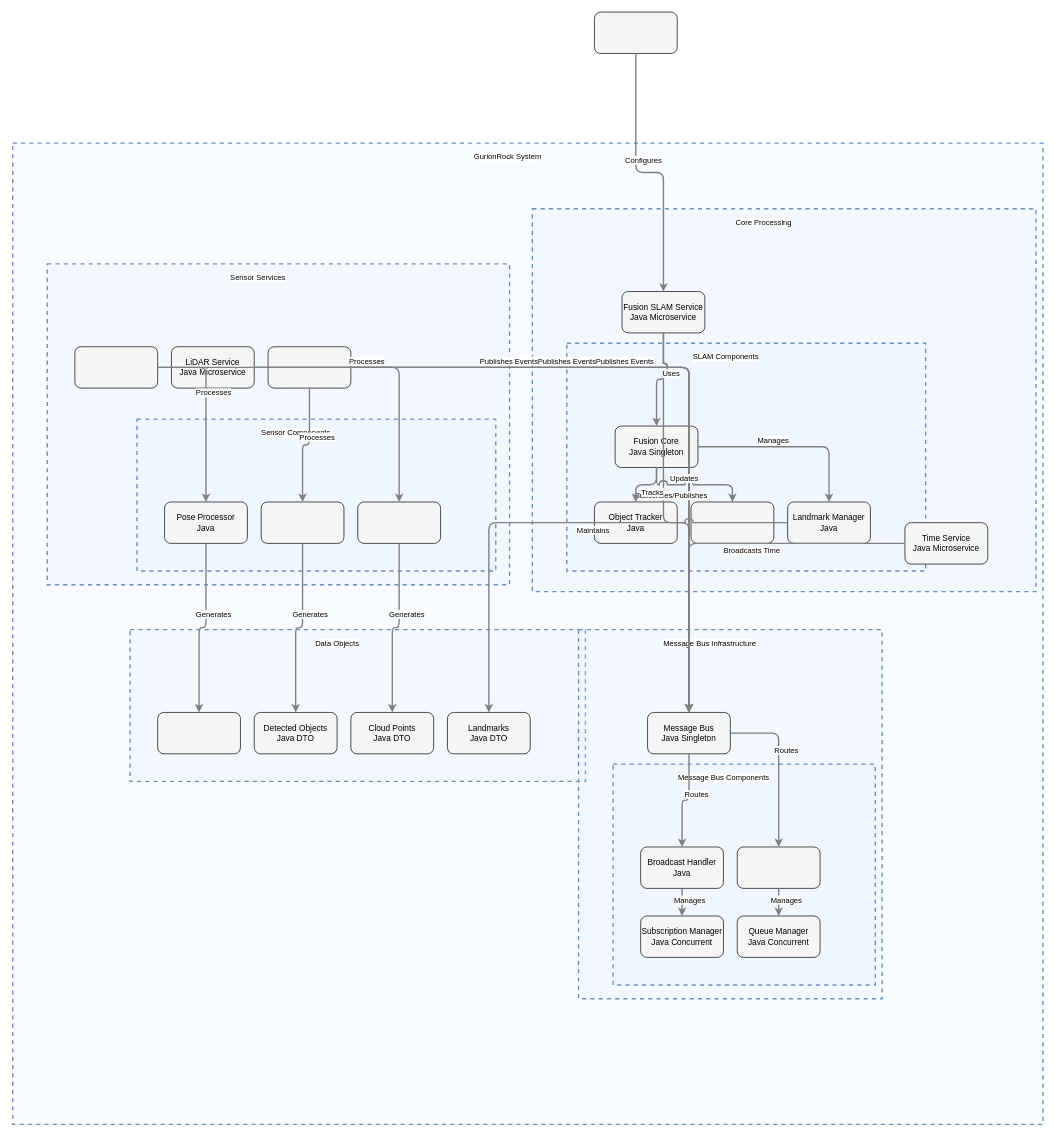
Image size: 1055x1137. Some labels were removed from this diagram. Each missing label, with the centre of its shape:
"Camera Processor Java" goes at point (302, 522).
"Camera Service Java Microservice" goes at point (309, 367).
"Event Handler Java" goes at point (778, 867).
"LiDAR Processor Java" goes at point (399, 522).
"Map Builder Java" goes at point (732, 522).
"Pose Data Java DTO" goes at point (198, 733).
"Pose Service Java Microservice" goes at point (116, 367).
"User" goes at point (635, 32).
